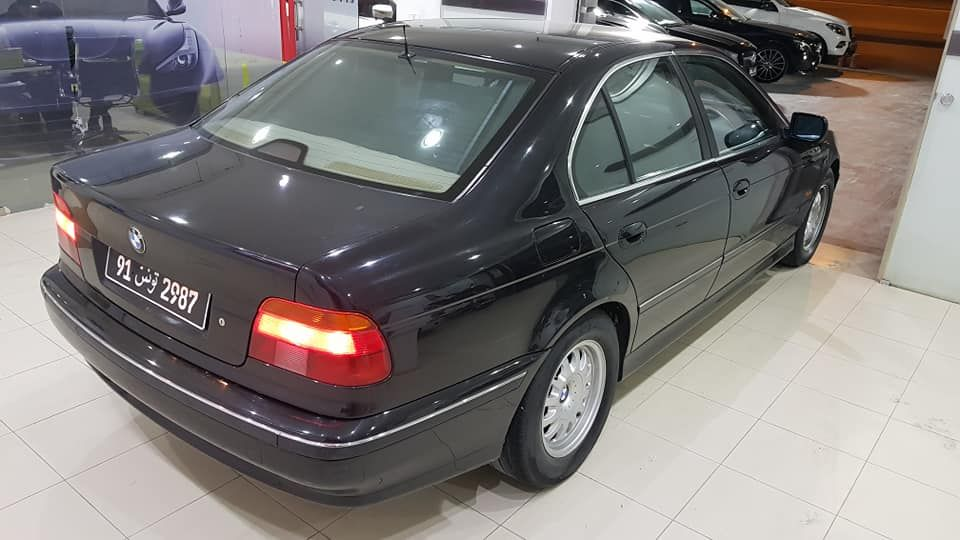LP: (102, 244, 212, 329)
